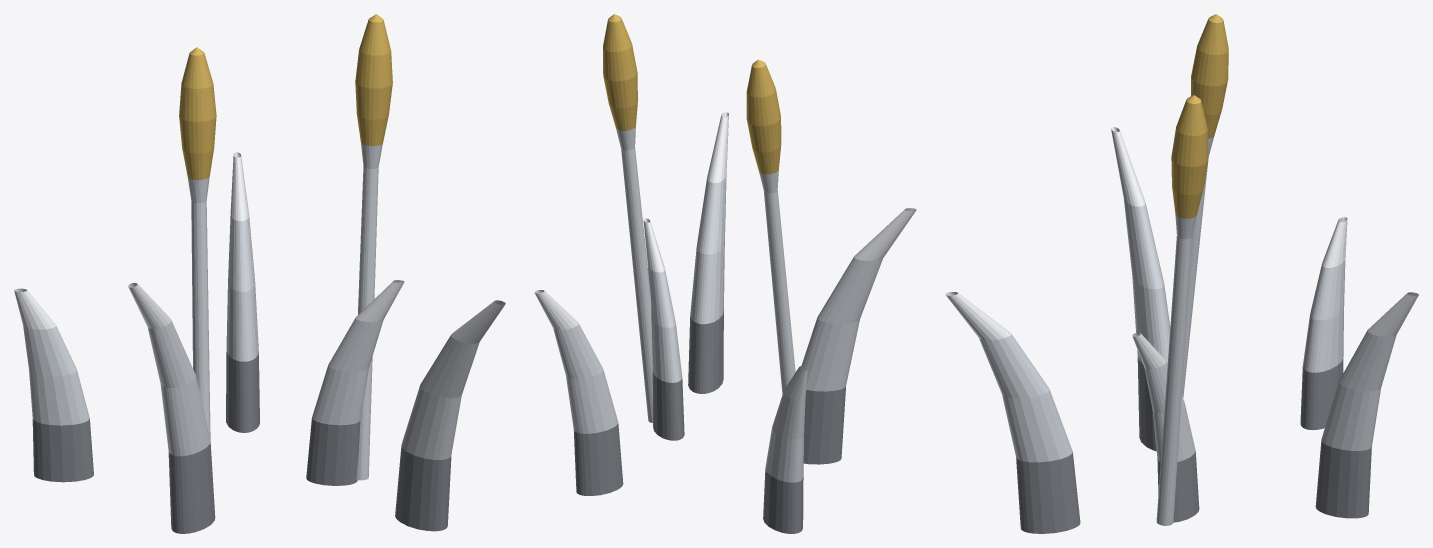
Rendered from MeadowGrass.obj.
3 renders of one model, left to right at view 1: azimuth 30°, elevation 25°; view 2: azimuth 150°, elevation 25°; view 3: azimuth 270°, elevation 25°, orthographic. The views are drawn at different scales.
Bounding box in the file's own units: 1.62 × 2.31 × 2.24.
